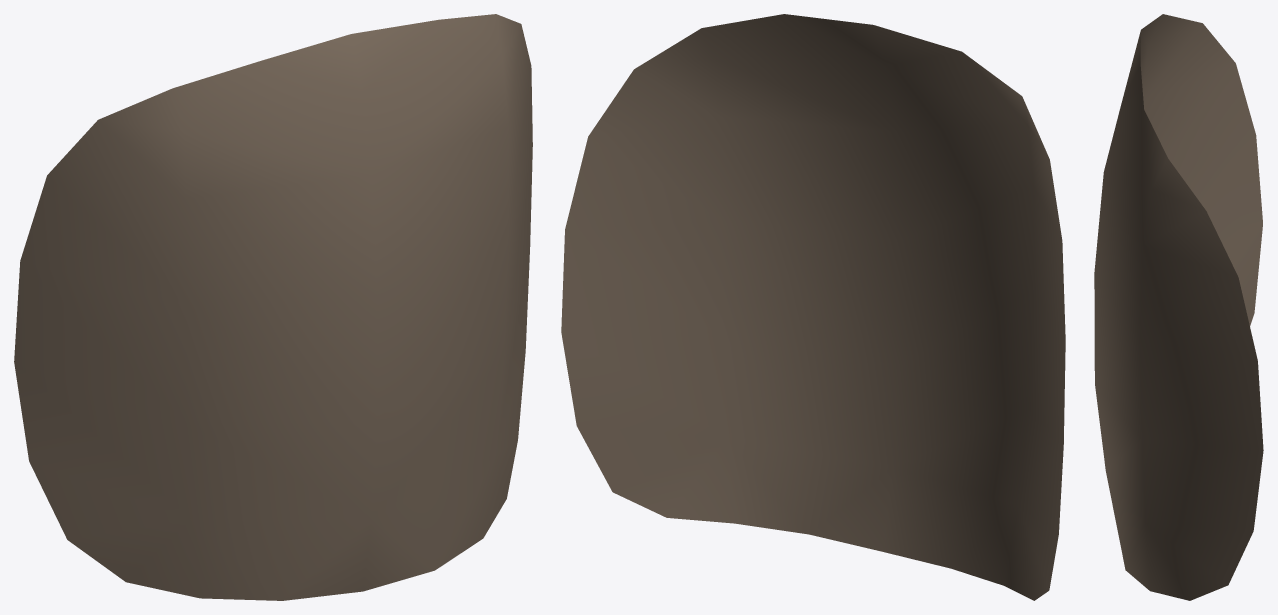
Rendered from MD_nail_FootL.Index.fbx.
3 views of the same model, side by side, from view 1: azimuth 30°, elevation 25°; view 2: azimuth 150°, elevation 25°; view 3: azimuth 270°, elevation 25° (orthographic). The views are drawn at different scales.
Parts seen in each view (by area): view 1: MD_nail_FootL.Index; view 2: MD_nail_FootL.Index; view 3: MD_nail_FootL.Index.
Boxes of the visible parts, bbox=[...] form: MD_nail_FootL.Index: bbox=[14, 14, 532, 600]; MD_nail_FootL.Index: bbox=[561, 14, 1065, 600]; MD_nail_FootL.Index: bbox=[1094, 14, 1263, 600].
Size of the model in its own units: 0.7623 by 0.7758 by 0.2498.
